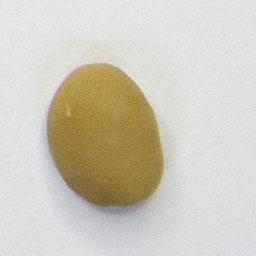defect: (44, 58, 169, 212)
